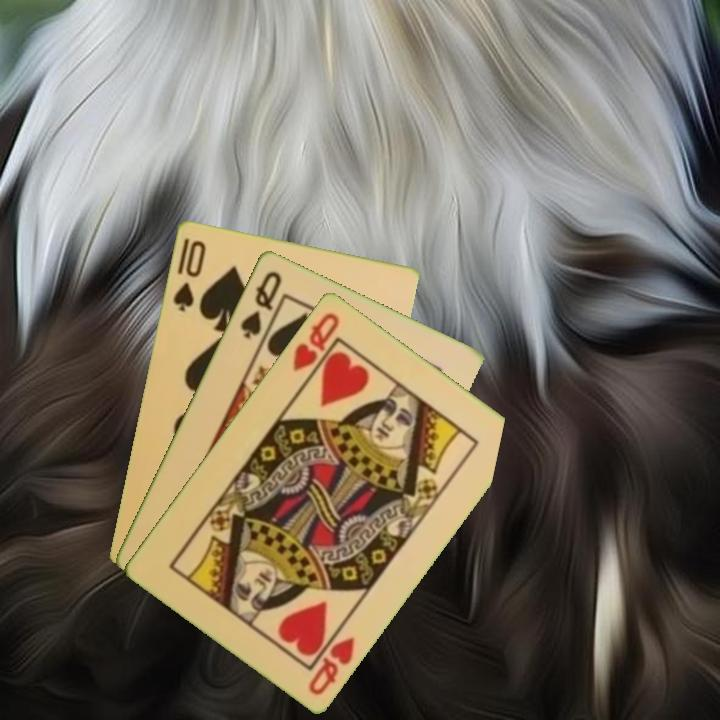10s: (169, 236, 209, 314)
Qh: (289, 308, 343, 374), (304, 632, 358, 698)
Qs: (236, 267, 285, 342)
